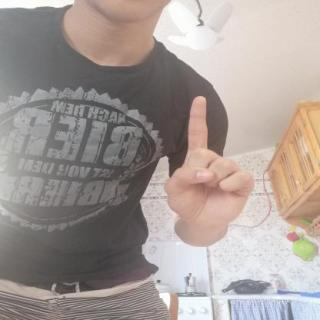BAA: (153, 84, 260, 234)
